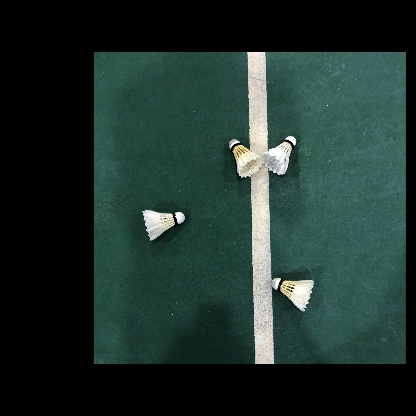ball_single: (271, 278, 314, 311), (229, 139, 264, 179), (142, 210, 185, 241), (262, 136, 296, 175)
